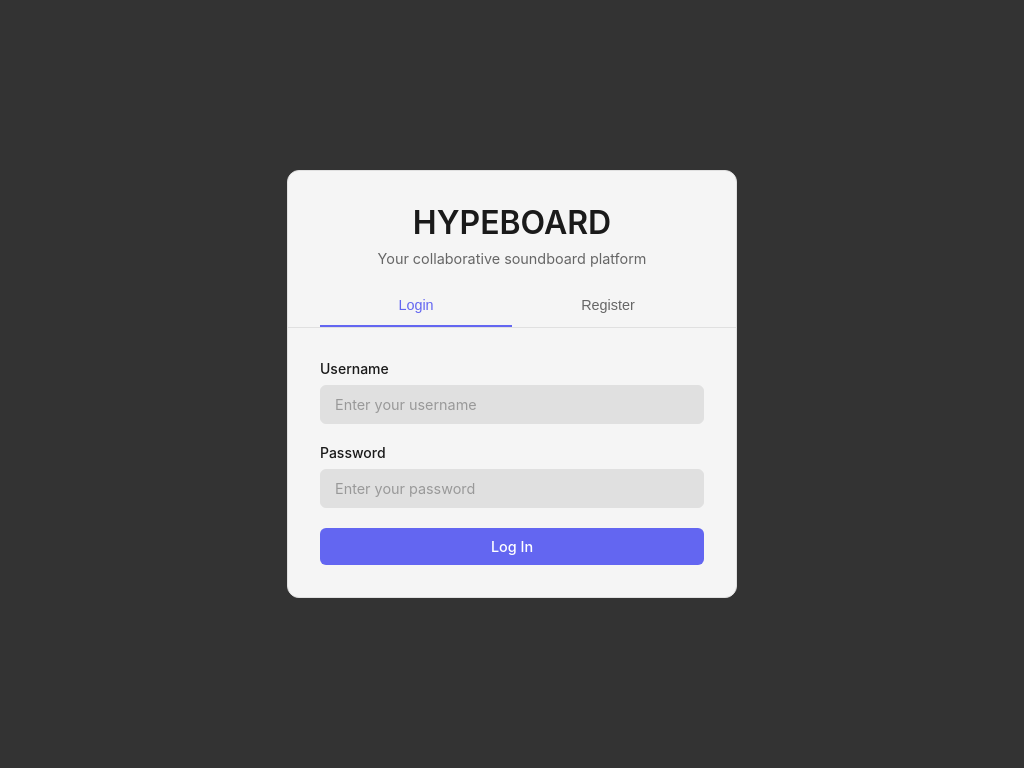
Test: LoginModal › should validate password match on register
This screenshot has width=1024, height=768.
Note: Switch to register tab
Click the button "Register".
click(608, 305)  # box x1=512 y1=283 x2=704 y2=327
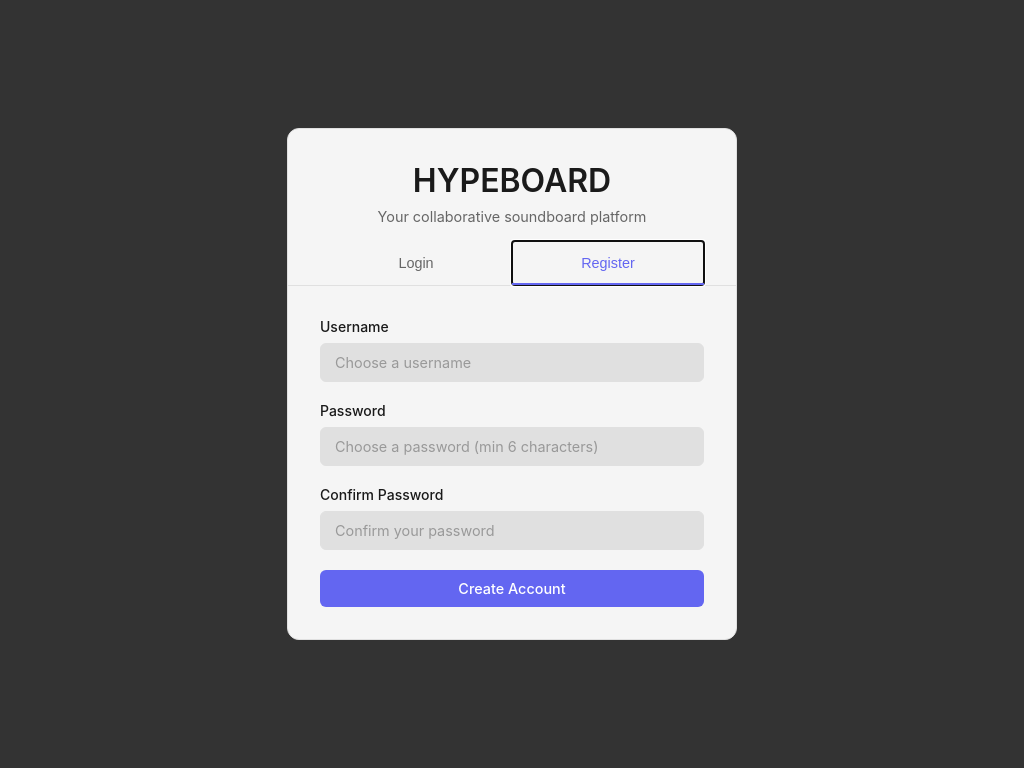
Type "newuser" into the field with placeholder "Choose a username".
click(512, 362); type("newuser")  # box x1=320 y1=343 x2=704 y2=382
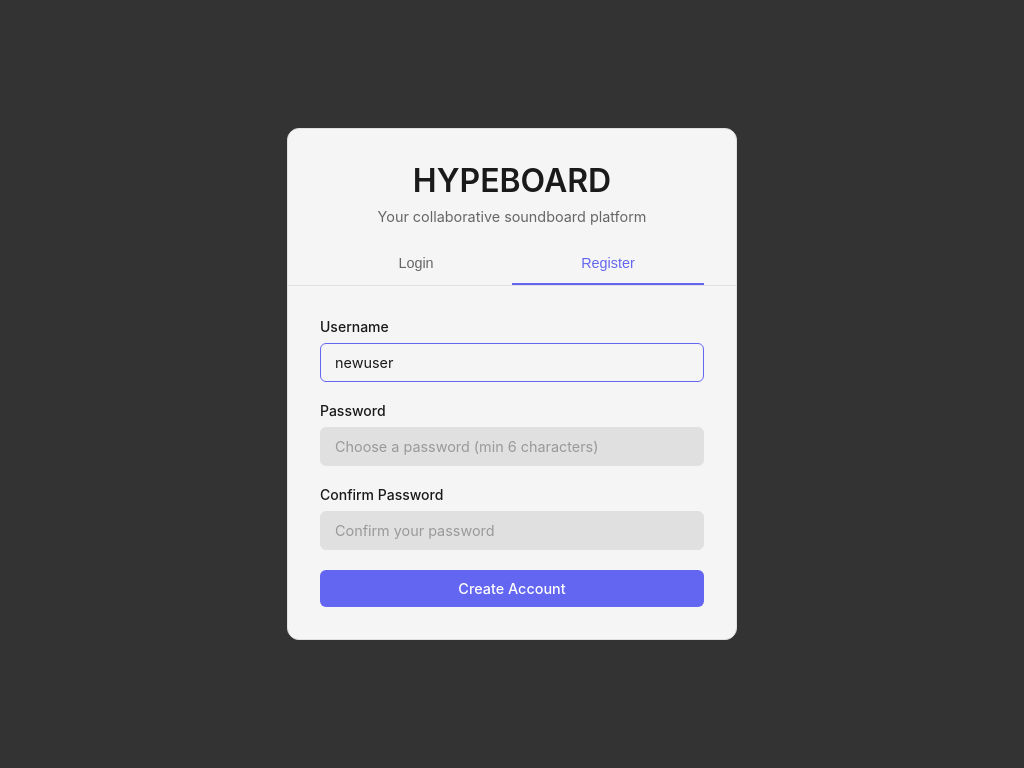
Type "password123" into the password field with placeholder "Choose a password (min 6 characters)".
click(512, 446); type("password123")  # box x1=320 y1=427 x2=704 y2=466
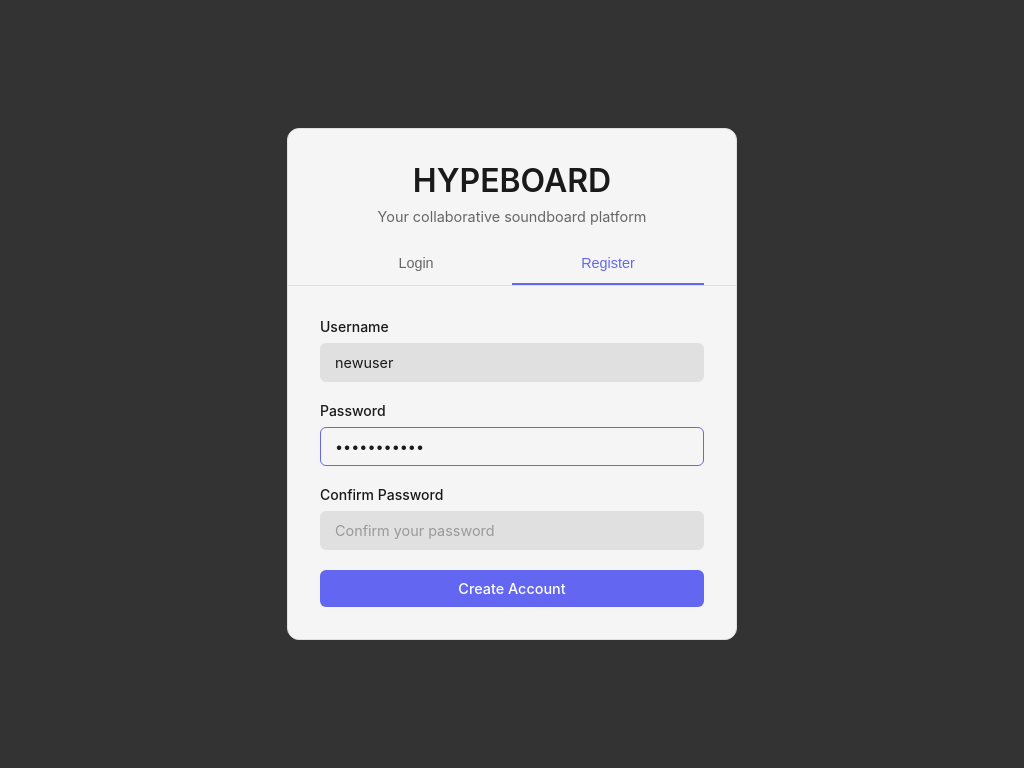
Type "differentpassword" into the password field with placeholder "Confirm your password".
click(512, 530); type("differentpassword")  # box x1=320 y1=511 x2=704 y2=550
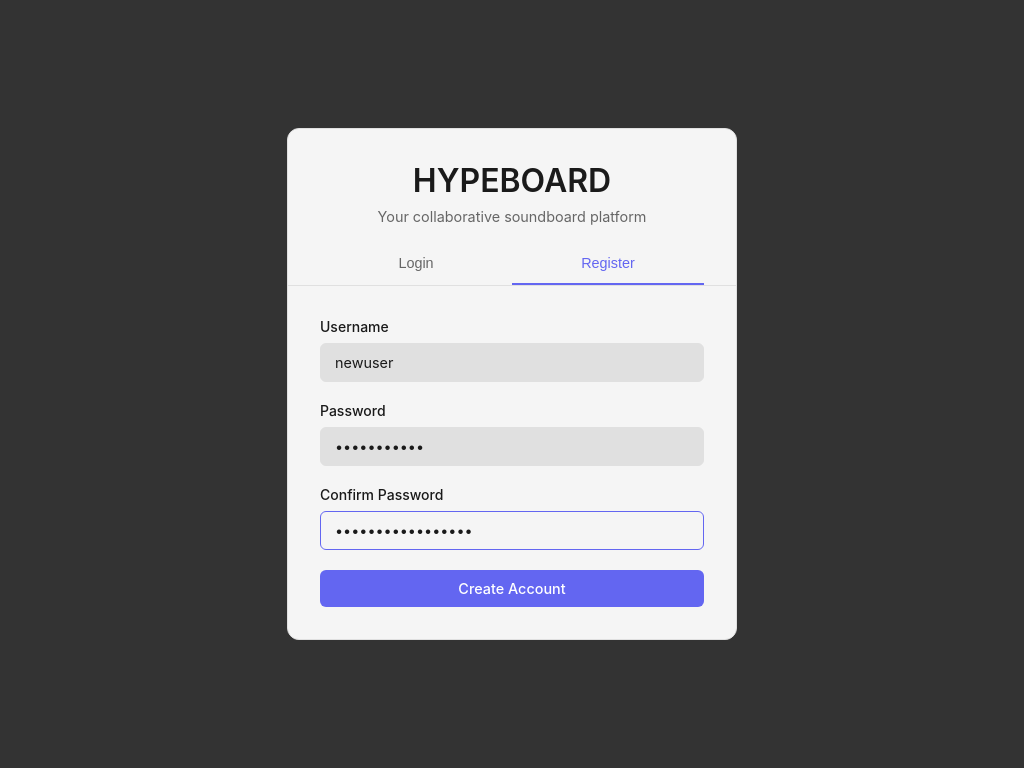
Click the button "Create Account".
click(512, 588)  # box x1=320 y1=570 x2=704 y2=607
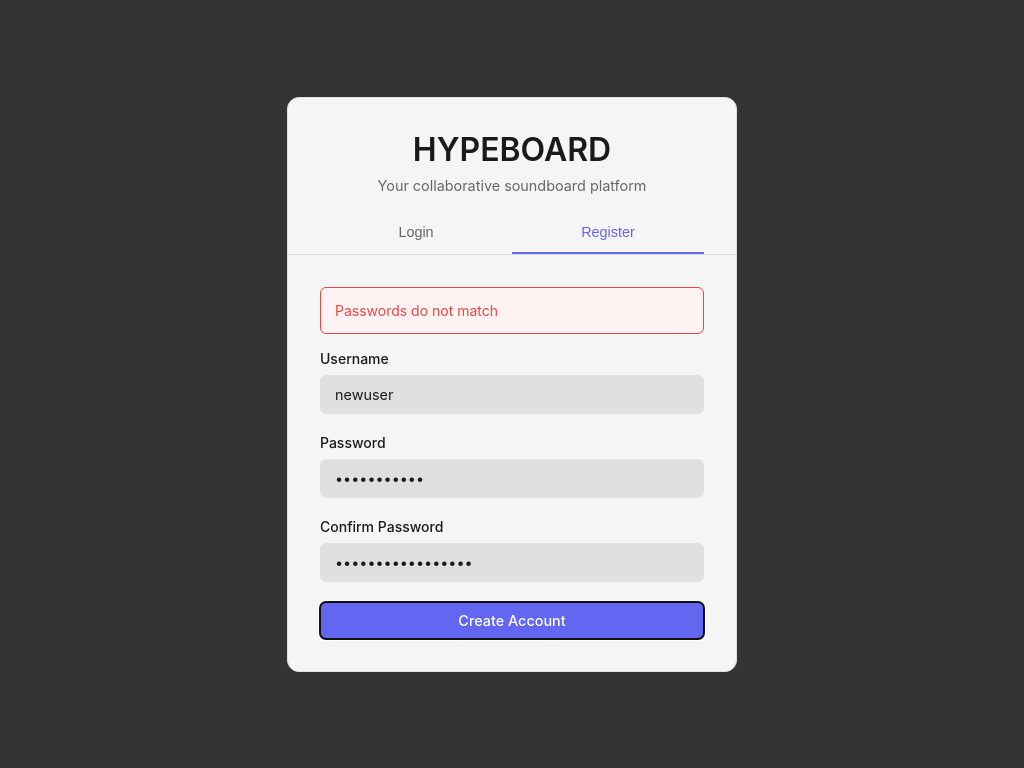
Expected: the text "Passwords do not match" is shown, x1=320 y1=286 x2=704 y2=334
